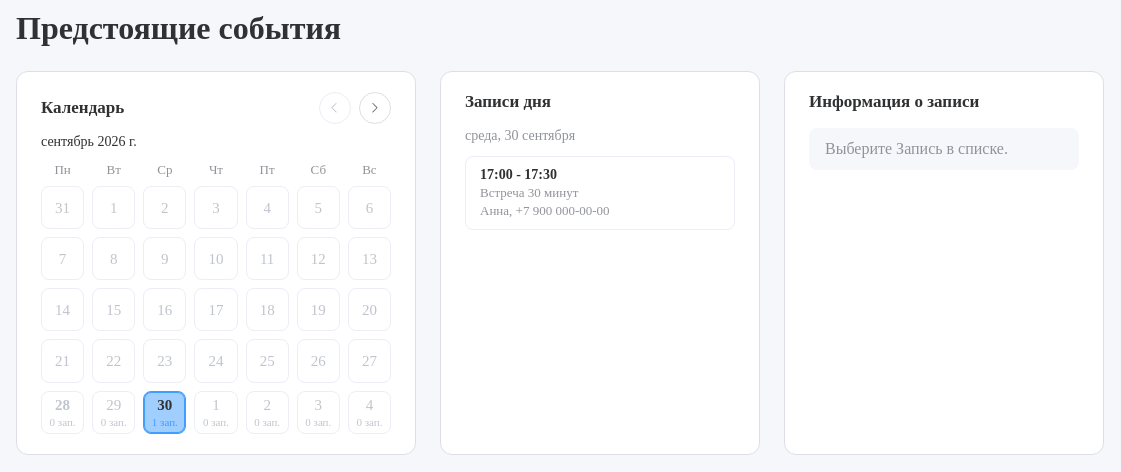
Test: UpcomingPage › shows the details of the picked booking
Click the button with class "booking" at (518, 174), box left=465, top=156, right=735, bottom=230
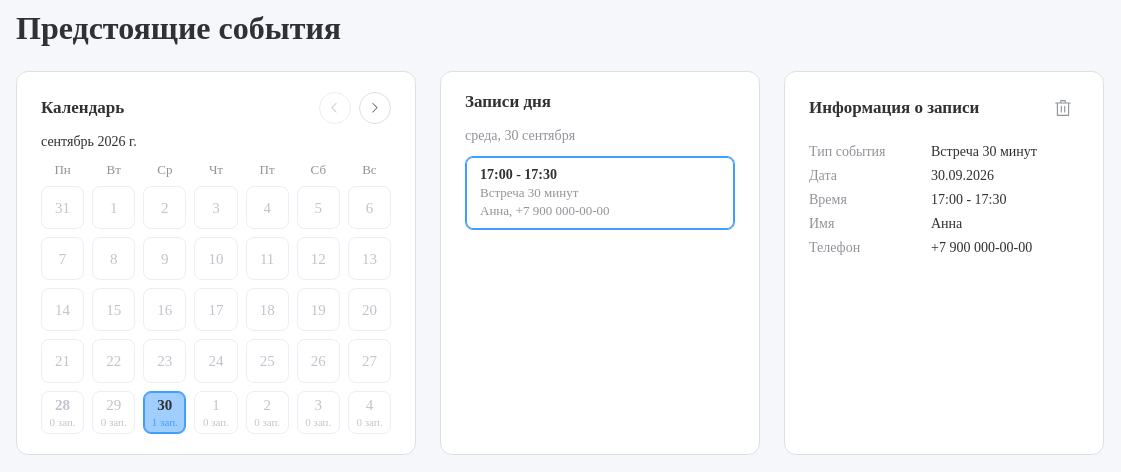
Expected: the text "Встреча 30 минут" below "среда, 30 сентября" is shown, left=480, top=185, right=578, bottom=200
Expected: the text "Анна" is shown, left=931, top=216, right=962, bottom=232
